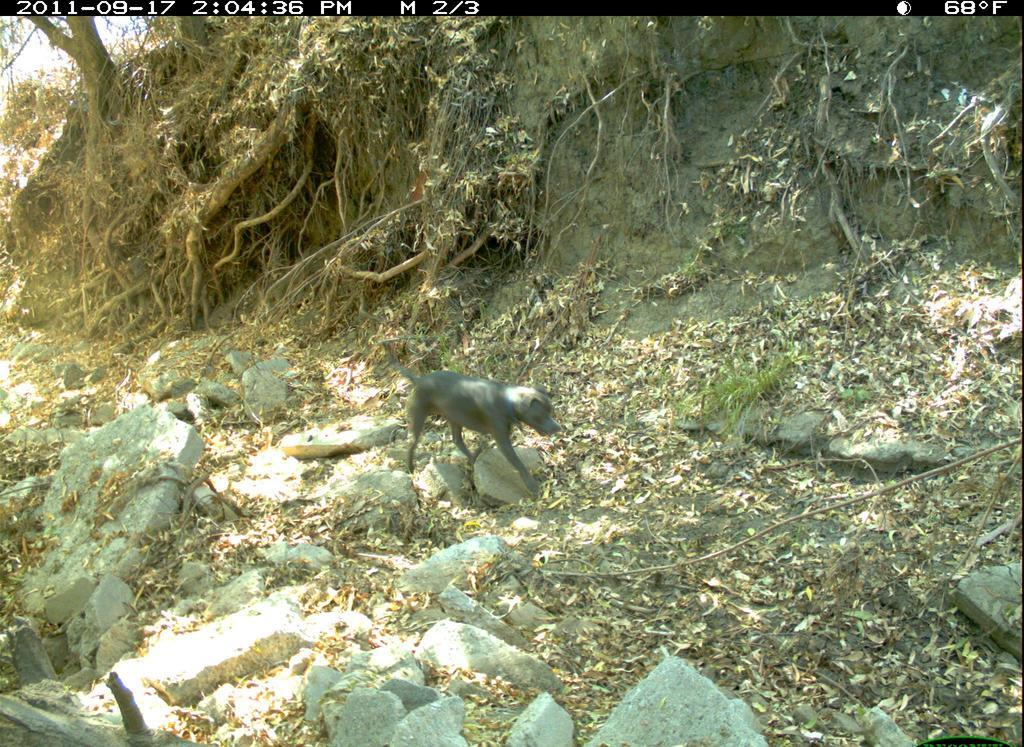dog: (365, 332, 585, 516)
